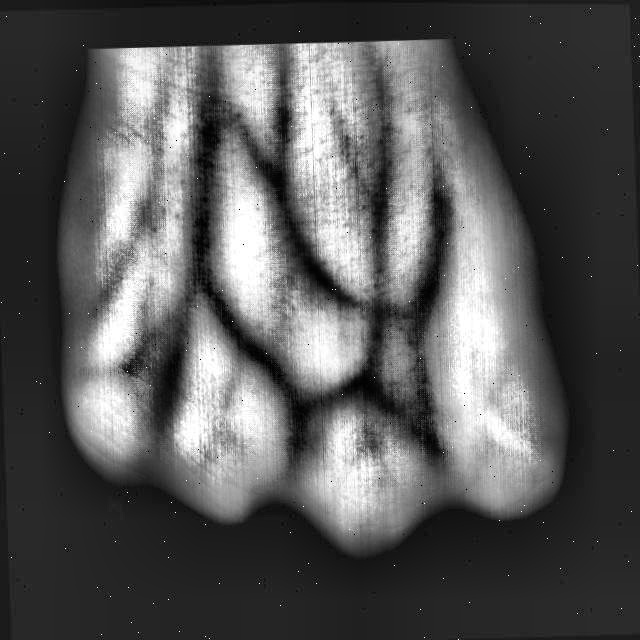Vein: (179, 53, 227, 262), (359, 51, 388, 294)
